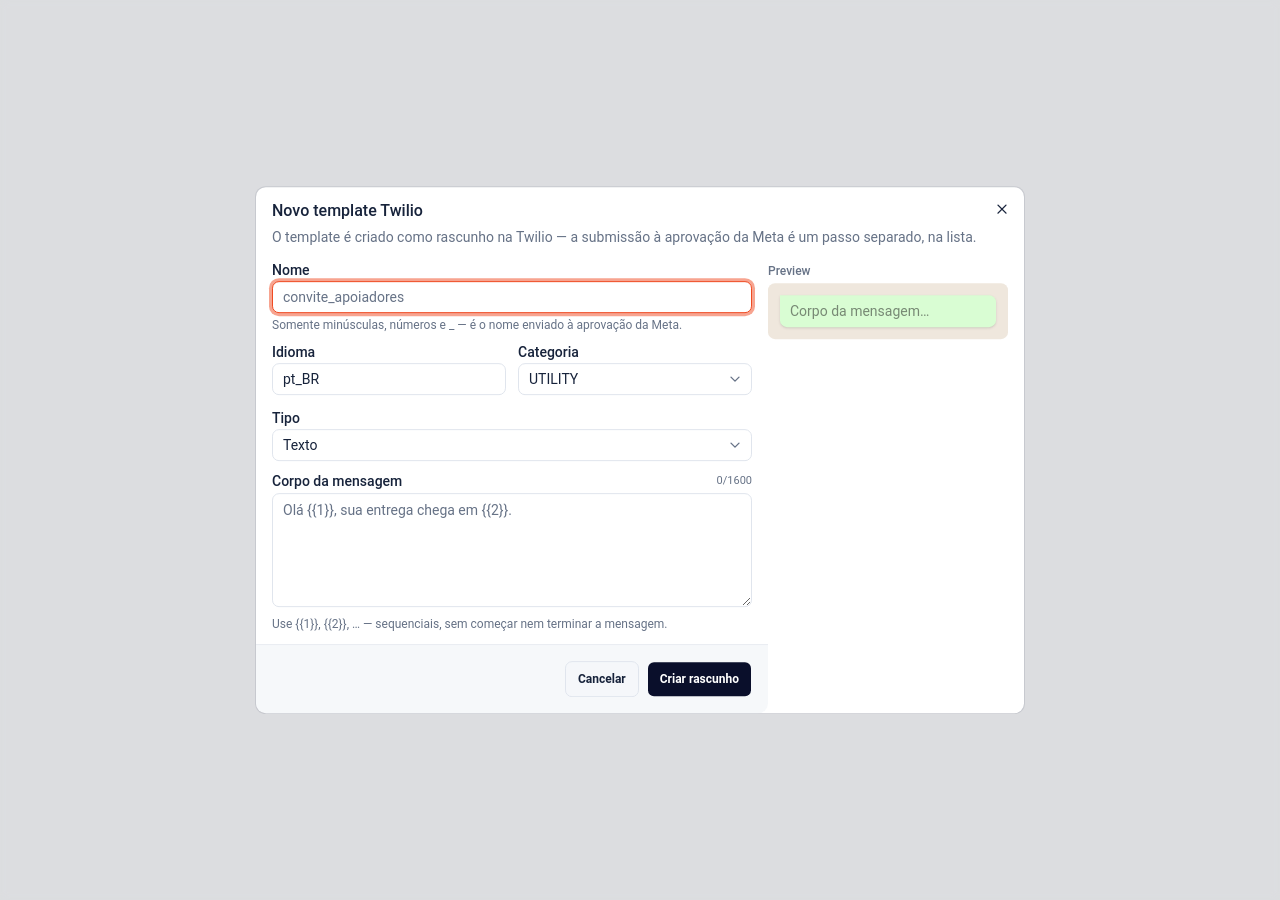
Scenario: TwilioTemplateFormDialog — quick-reply › mostra o contador do título e o erro inline acima do limite de 20
The width and height of the screenshot is (1280, 900).
Step 1. Type "com_botoes" into the field labelled "Nome" → (512, 297), box [272,281,752,313]
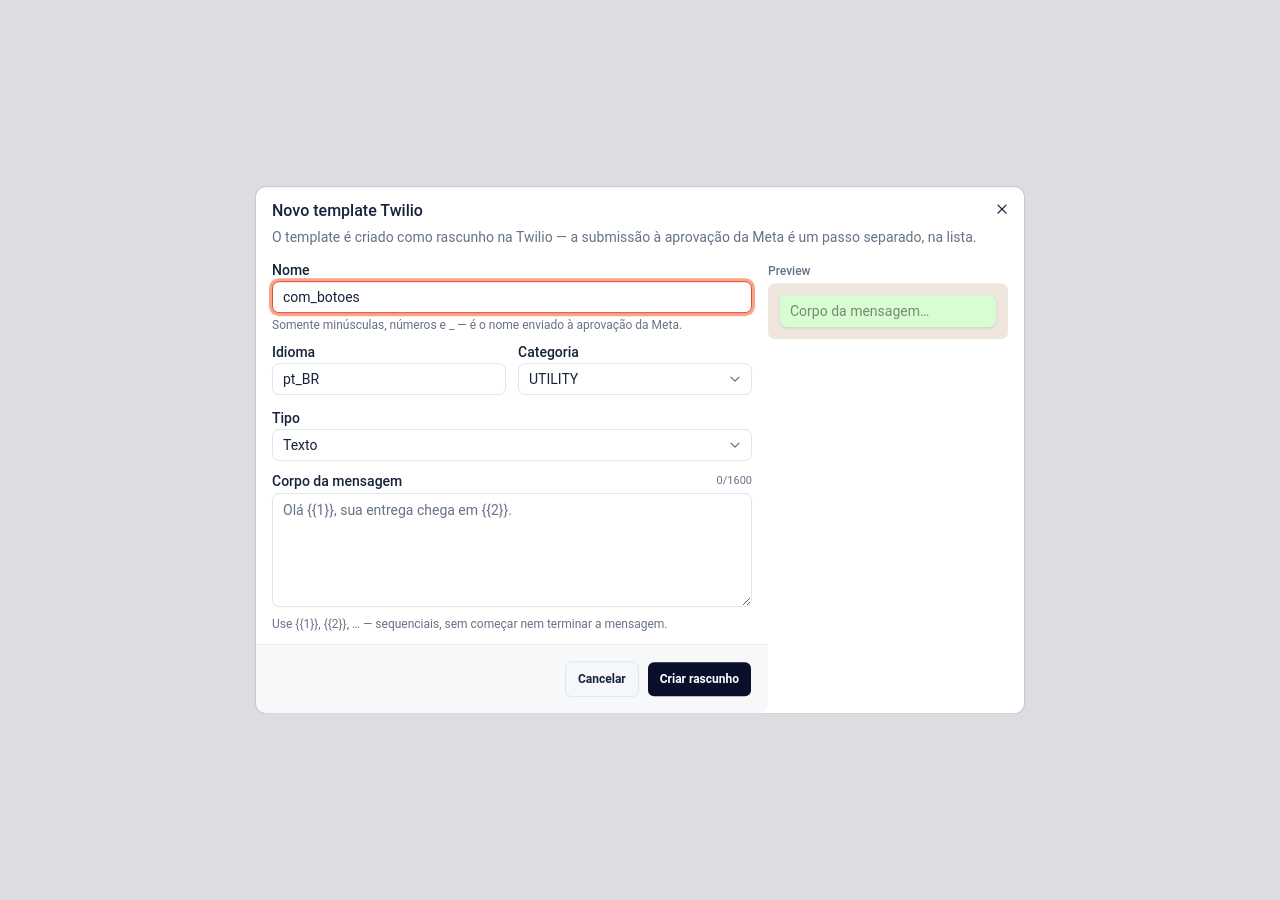
Step 2. Type "Podemos confirmar sua visita?" into the text box labelled "Corpo da mensagem" → (512, 550), box [272,493,752,607]
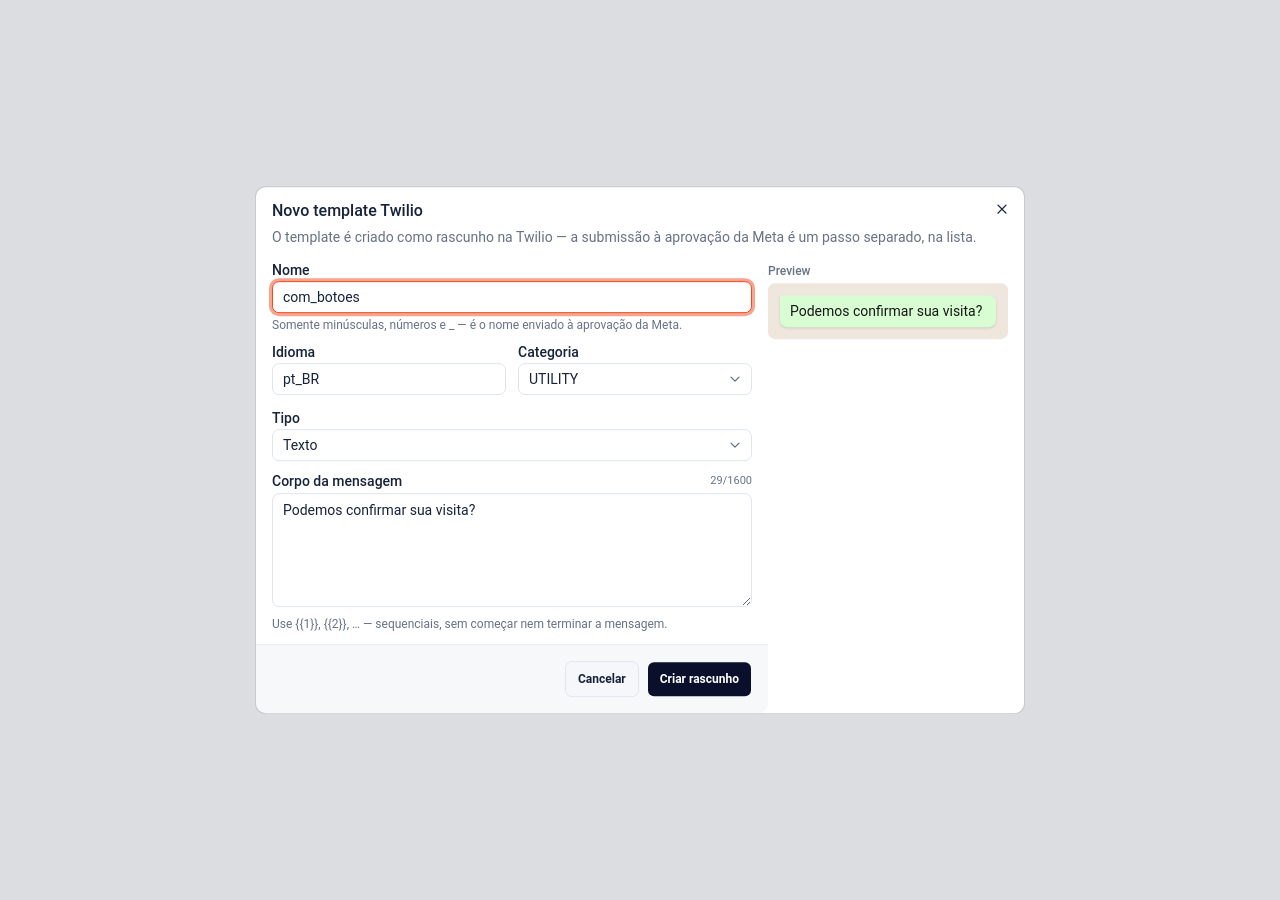
Step 3. Click the dropdown with id "twilio-content-type" → (300, 445), box [272,429,752,461]
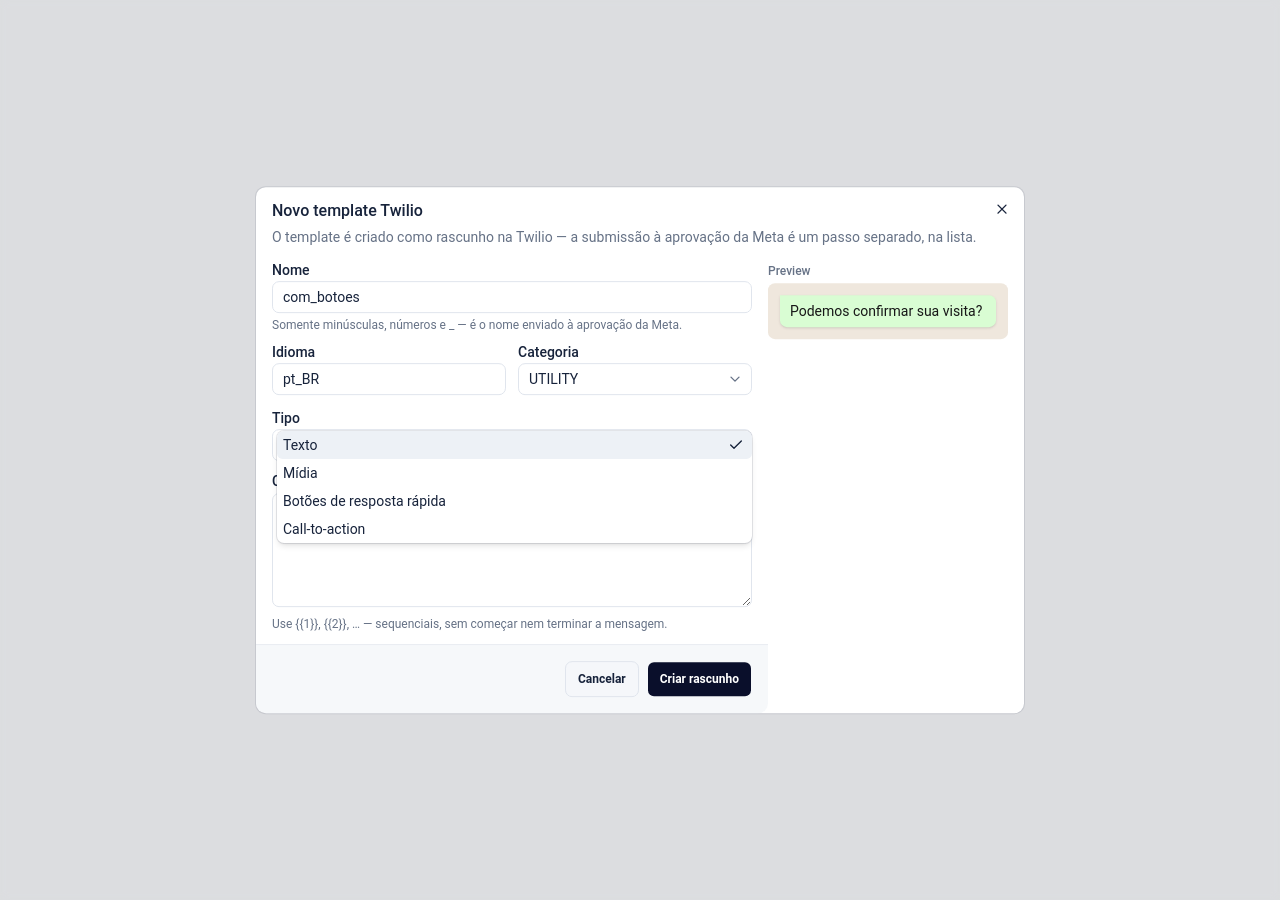
Step 4. Click the option "Botões de resposta rápida" → (364, 501), box [283,493,446,509]
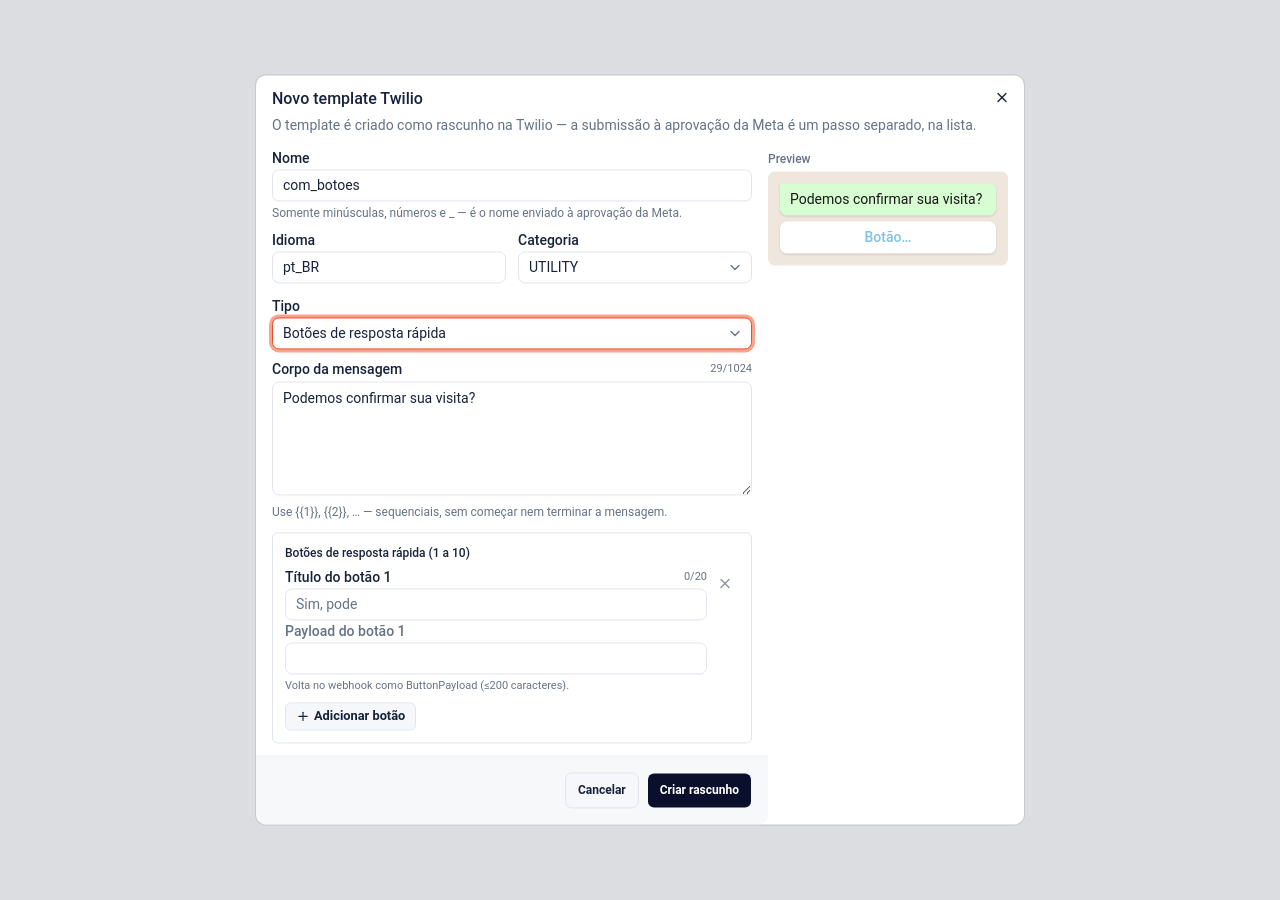
Step 5. Type "xxxxxxxxxxxxxxxxxxxxx" into the field labelled "Título do botão 1" → (496, 605), box [285,589,707,621]
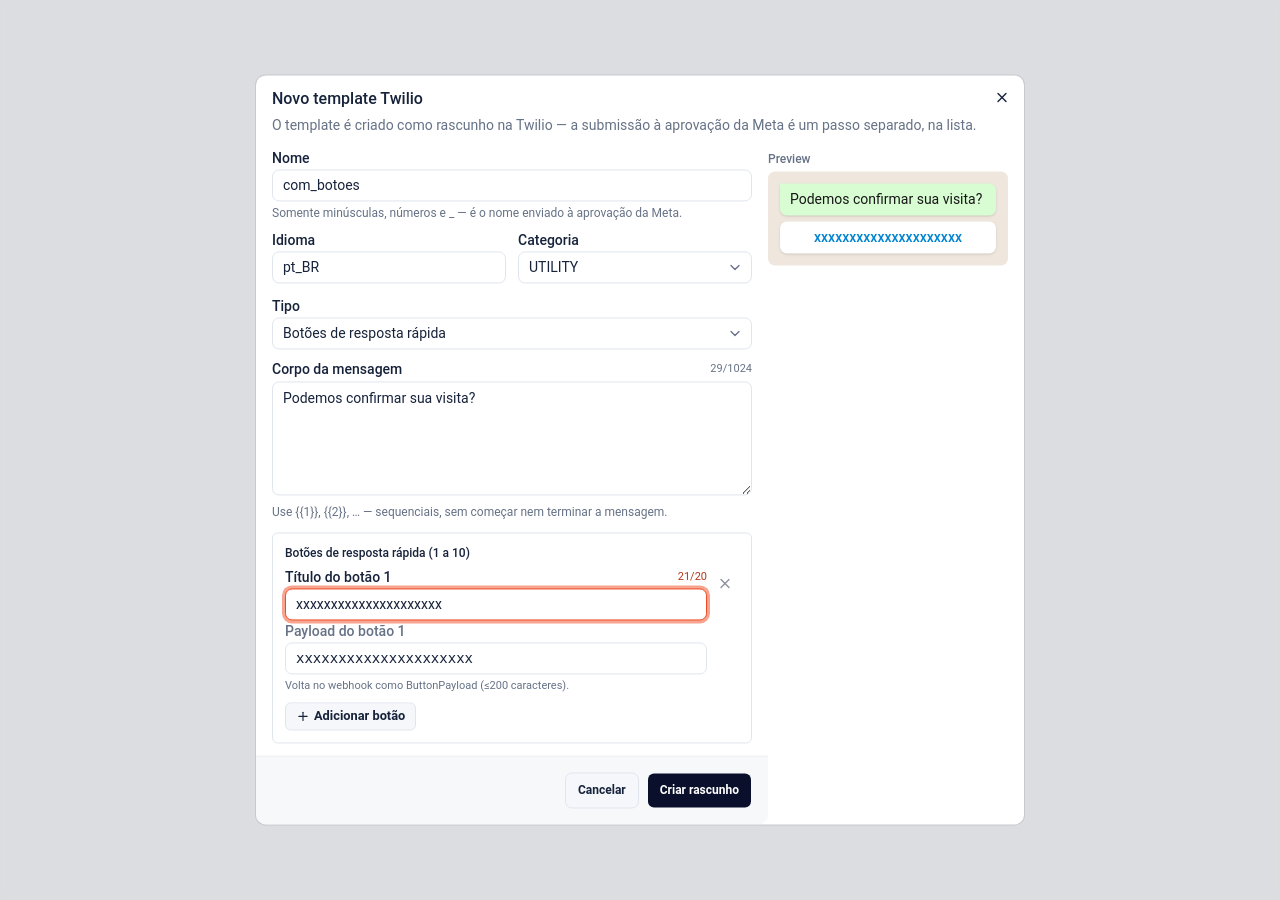
expect the text "21/20" is shown: met, box [678,569,707,585]
Step 6. Click the button "Criar rascunho" → (699, 791), box [647,773,752,809]
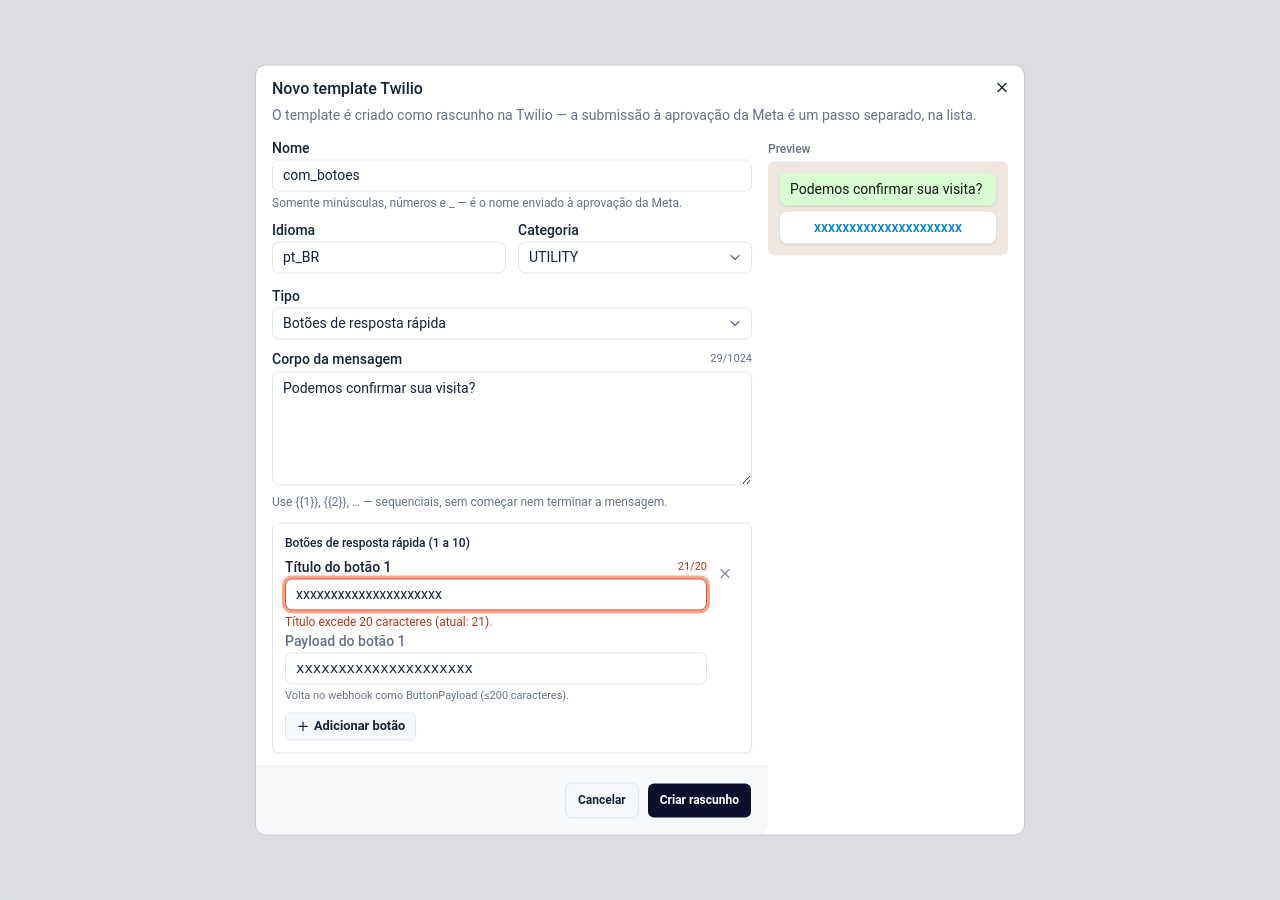
expect the text "Título excede 20 caracteres (atual: 21)." is shown: met, box [285,616,492,630]
